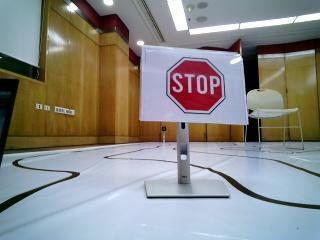stop: (149, 53, 242, 123)
